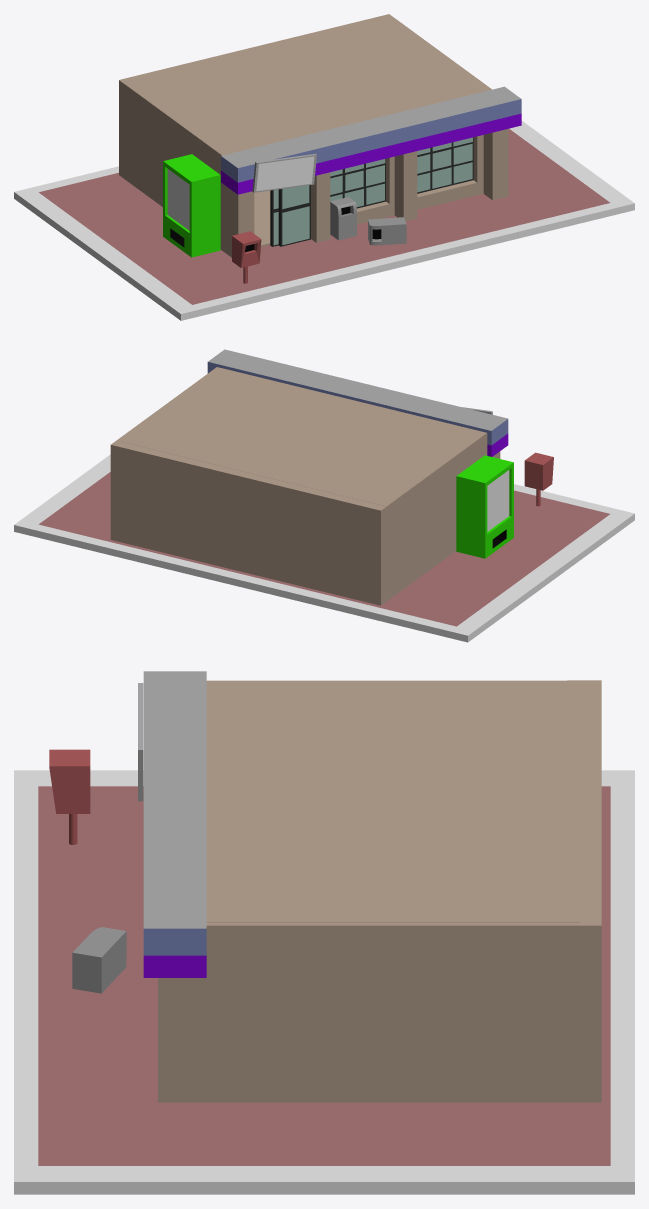
File: Store_Inside.fbx
3 views of the same model, one above another, from view 1: azimuth 30°, elevation 25°; view 2: azimuth 150°, elevation 25°; view 3: azimuth 270°, elevation 25° (orthographic). The views are drawn at different scales.
Visible parts, largest first — view 1: Plane.001, Roof, Light_Purple_Blue, Right_Wall, Plane, Cube.012, Front_Pilar, Frot_wall, Back_Wall, Left_Wall, Name_Sign, Cube.007 (+6 smaller); view 2: Back_Wall, Roof, Plane.001, Right_Wall, Light_Purple_Blue, Cube.012, Cube.014, Cube.004, Left_Wall; view 3: Plane.001, Roof, Left_Wall, Light_Purple_Blue, Back_Wall, Cube.005, Cube.004.
Boxes of the visible parts, x1,y1,x2,y2 form: Plane.001: (14, 121, 634, 320); Roof: (125, 19, 488, 155); Light_Purple_Blue: (221, 86, 521, 194); Right_Wall: (127, 86, 254, 257); Plane: (330, 137, 473, 208); Cube.012: (163, 154, 220, 257); Front_Pilar: (311, 151, 417, 242); Frot_wall: (357, 135, 483, 224); Back_Wall: (119, 14, 397, 181); Left_Wall: (392, 18, 508, 200); Name_Sign: (252, 154, 316, 192); Cube.007: (278, 185, 310, 246); Back_Wall: (110, 440, 390, 605); Roof: (120, 368, 486, 506); Plane.001: (14, 454, 634, 642); Right_Wall: (386, 433, 500, 598); Light_Purple_Blue: (207, 349, 508, 456); Cube.012: (456, 455, 513, 558); Cube.014: (487, 470, 509, 531); Cube.004: (524, 452, 553, 490); Left_Wall: (117, 367, 219, 441); Plane.001: (14, 770, 634, 1194); Roof: (206, 680, 580, 922); Left_Wall: (158, 922, 580, 1102); Light_Purple_Blue: (143, 671, 206, 977); Back_Wall: (567, 680, 601, 1102); Cube.005: (72, 927, 126, 993); Cube.004: (49, 749, 90, 813).
Size of the model in its own units: 1707 by 384 by 1087.
